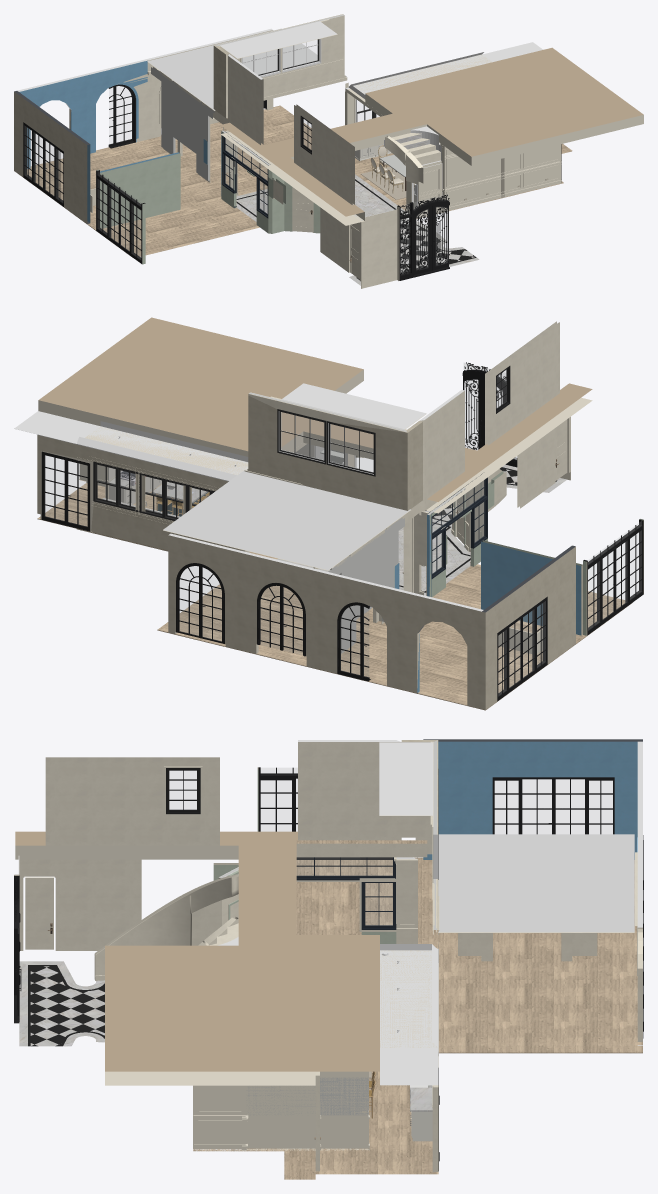
Rendered from kitchen-6c7df39f3110.glb.
3 renders of one model, top to bottom at view 1: azimuth 30°, elevation 25°; view 2: azimuth 150°, elevation 25°; view 3: azimuth 270°, elevation 25°, orthographic. The views are drawn at different scales.
Visible parts, largest first — view 1: kitchen-look-2575515a05775d9e, kitchen-look-3b0077416469e01b, kitchen-look-969b861f9850351e, kitchen-19647d6da46c2b80, kitchen-look-b19b106fc304963c, kitchen-look-039192b0560cfac3, kitchen-look-4a969f5cc1ae3dfe, kitchen-look-746250f96522f643, kitchen-look-55ff1dfd7b659ec1, kitchen-look-245f595ae2832e16, kitchen-look-d5a4a1b5d3594c04, kitchen-look-7f59123d155b94ce (+38 smaller); view 2: kitchen-look-2575515a05775d9e, kitchen-look-969b861f9850351e, kitchen-look-3b0077416469e01b, kitchen-look-4a969f5cc1ae3dfe, kitchen-look-245f595ae2832e16, kitchen-look-039192b0560cfac3, kitchen-look-746250f96522f643, kitchen-bfb9fa537cd11d1d, kitchen-49bdd6945a2d0056, kitchen-look-7f59123d155b94ce, kitchen-look-b19b106fc304963c, kitchen-look-55ff1dfd7b659ec1 (+40 smaller); view 3: kitchen-look-2575515a05775d9e, kitchen-look-3b0077416469e01b, kitchen-look-4a969f5cc1ae3dfe, kitchen-look-746250f96522f643, kitchen-look-039192b0560cfac3, kitchen-look-7f59123d155b94ce, kitchen-look-85f0fd939e0fcc78, kitchen-9a0e9ee9b2a451d7, kitchen-look-e388ad8855329420, kitchen-5b6bbac285e58726, kitchen-look-9d91b47435c6fb33, kitchen-49bdd6945a2d0056 (+30 smaller).
Boxes of the visible parts, x1,y1,x2,y2 form: kitchen-look-2575515a05775d9e: [221, 47, 643, 225]; kitchen-look-3b0077416469e01b: [14, 105, 572, 257]; kitchen-look-969b861f9850351e: [17, 28, 273, 168]; kitchen-19647d6da46c2b80: [444, 144, 560, 207]; kitchen-look-b19b106fc304963c: [100, 152, 180, 228]; kitchen-look-039192b0560cfac3: [14, 91, 90, 223]; kitchen-look-4a969f5cc1ae3dfe: [147, 28, 346, 110]; kitchen-look-746250f96522f643: [294, 104, 354, 205]; kitchen-look-55ff1dfd7b659ec1: [151, 67, 214, 180]; kitchen-look-245f595ae2832e16: [213, 14, 344, 108]; kitchen-look-d5a4a1b5d3594c04: [361, 209, 397, 288]; kitchen-look-7f59123d155b94ce: [228, 54, 263, 144]; kitchen-look-2575515a05775d9e: [38, 317, 592, 513]; kitchen-look-969b861f9850351e: [168, 533, 483, 708]; kitchen-look-3b0077416469e01b: [37, 479, 632, 710]; kitchen-look-4a969f5cc1ae3dfe: [163, 471, 410, 570]; kitchen-look-245f595ae2832e16: [248, 392, 407, 510]; kitchen-look-039192b0560cfac3: [481, 545, 575, 709]; kitchen-look-746250f96522f643: [485, 321, 559, 445]; kitchen-bfb9fa537cd11d1d: [76, 444, 247, 551]; kitchen-49bdd6945a2d0056: [76, 421, 248, 480]; kitchen-look-7f59123d155b94ce: [419, 390, 464, 511]; kitchen-look-b19b106fc304963c: [481, 540, 582, 635]; kitchen-look-55ff1dfd7b659ec1: [328, 517, 404, 653]; kitchen-look-2575515a05775d9e: [15, 831, 379, 1085]; kitchen-look-3b0077416469e01b: [284, 857, 642, 1179]; kitchen-look-4a969f5cc1ae3dfe: [438, 834, 634, 932]; kitchen-look-746250f96522f643: [45, 757, 219, 845]; kitchen-look-039192b0560cfac3: [423, 739, 642, 859]; kitchen-look-7f59123d155b94ce: [298, 740, 401, 840]; kitchen-look-85f0fd939e0fcc78: [19, 859, 141, 950]; kitchen-9a0e9ee9b2a451d7: [380, 950, 438, 1047]; kitchen-look-e388ad8855329420: [30, 966, 104, 1046]; kitchen-5b6bbac285e58726: [247, 1085, 315, 1150]; kitchen-look-9d91b47435c6fb33: [379, 742, 432, 815]; kitchen-49bdd6945a2d0056: [380, 944, 438, 1047].
Bounding box in the file's own units: 20.84 × 6.36 × 16.8.
70 materials, 14 textured.
